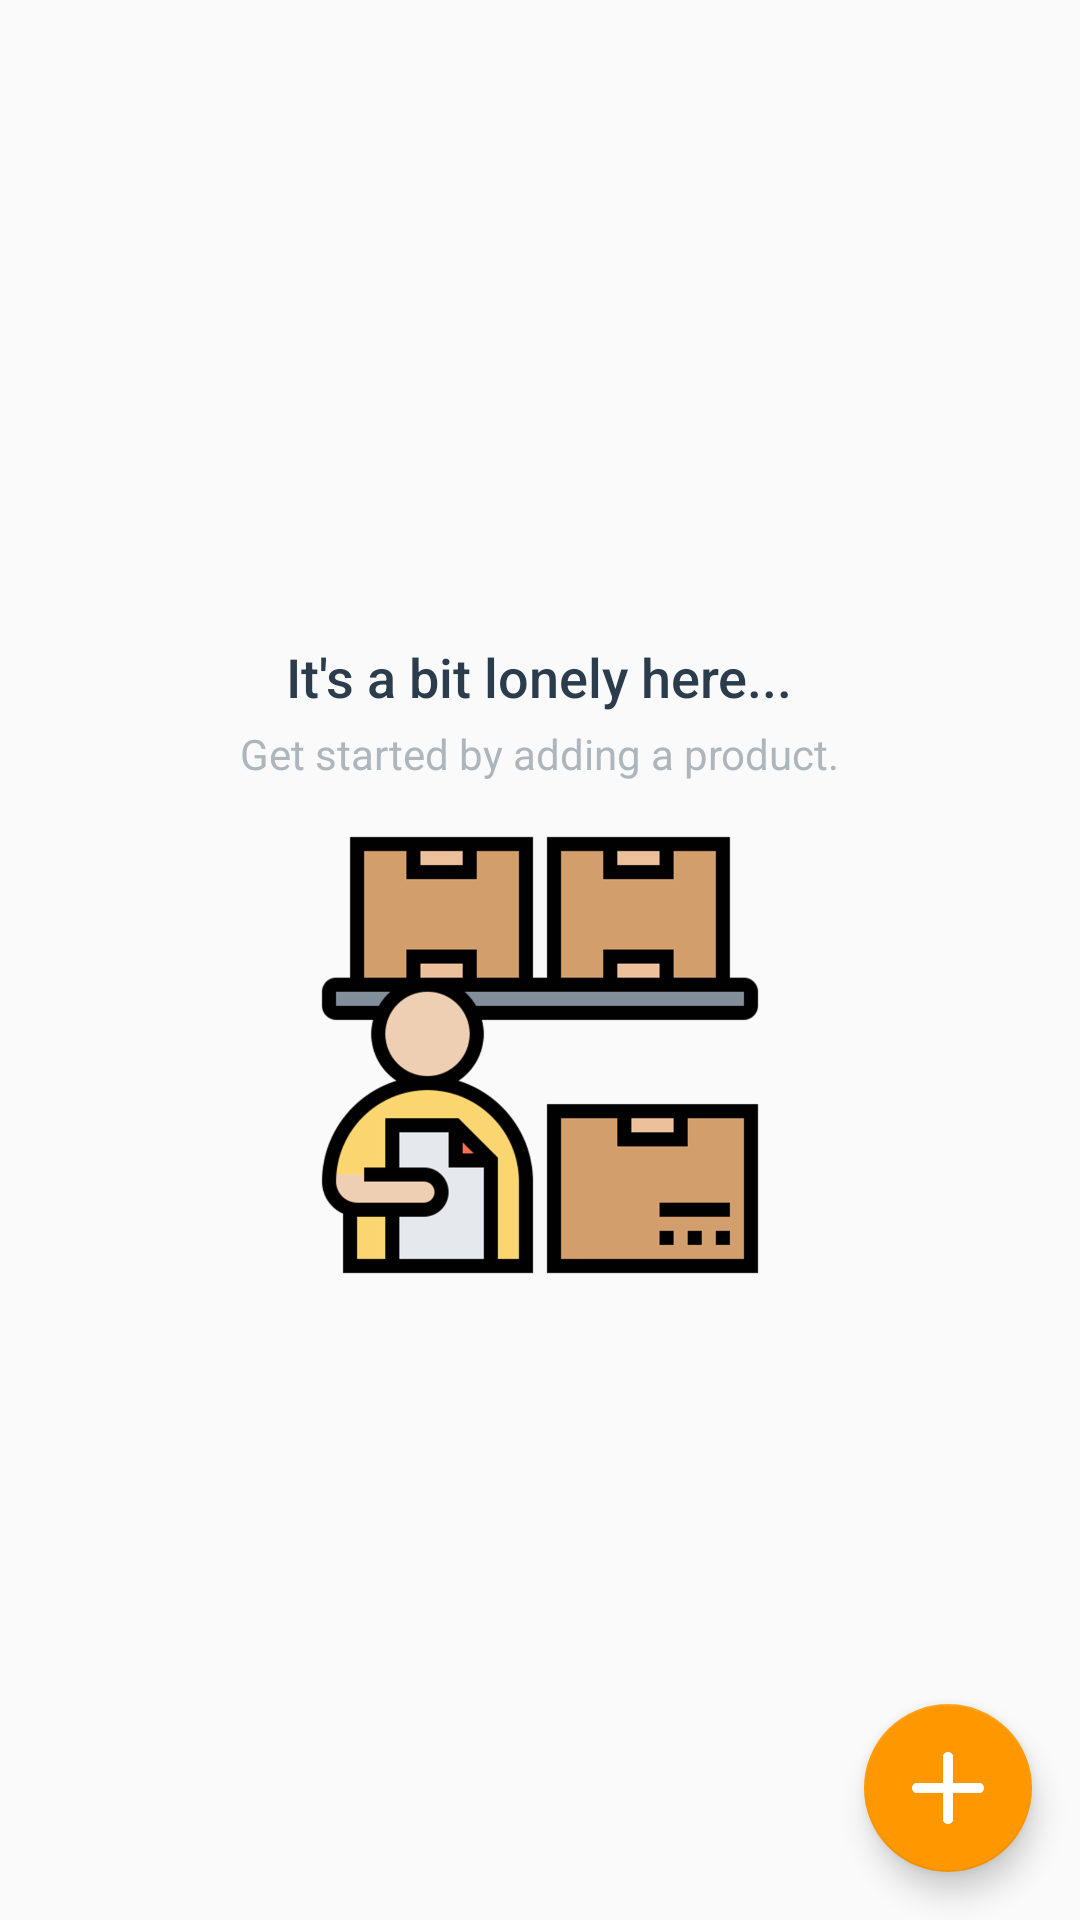

Locate icon controls on the screen. Image size 1080px×1920px, boxes as bbox=[x1, y1, x2, y2].
add inventory: bbox=[864, 1704, 1032, 1872]
